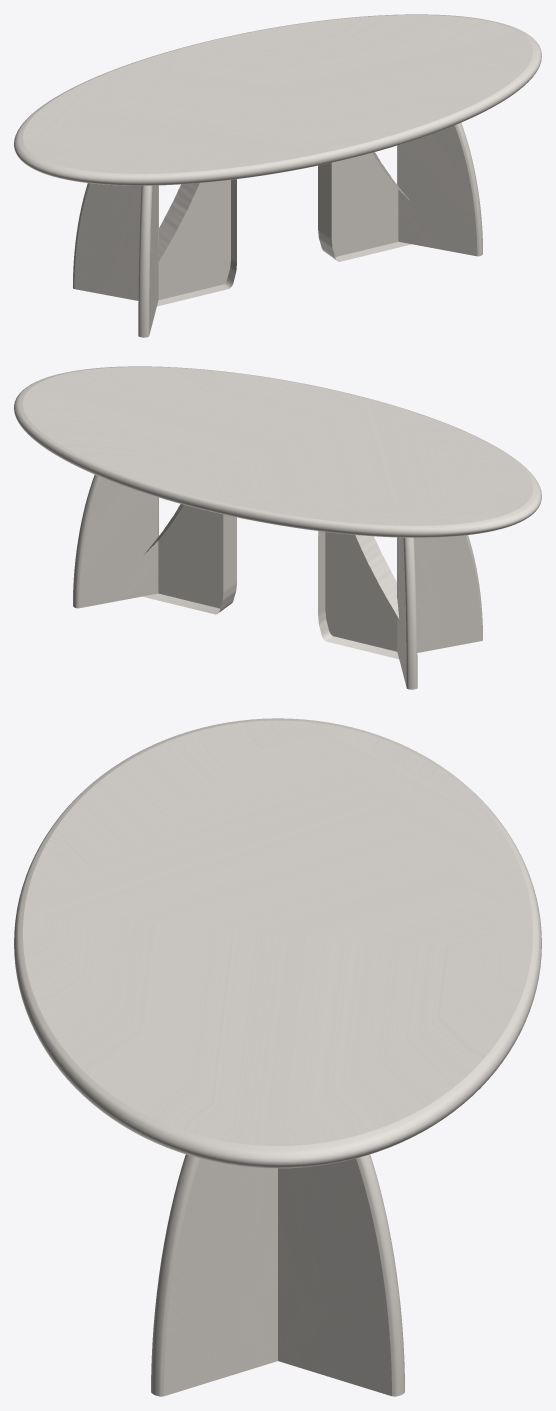
The model's file is pearlwhite_ellips_round_plane.glb.
The picture shows the model from 3 angles, top to bottom: view 1: azimuth 30°, elevation 25°; view 2: azimuth 150°, elevation 25°; view 3: azimuth 270°, elevation 25°; orthographic projection. The views are drawn at different scales.
Visible parts, largest first — view 1: round_ellips, plane_singleright2, plane_single1, plane_single2, plane_singleleft1, plane_singleright1; view 2: round_ellips, plane_singleleft2, plane_single1, plane_single2, plane_singleright1, plane_singleleft1; view 3: round_ellips, plane_singleleft2, plane_singleright2.
Boxes of the visible parts, x1=… form: round_ellips: x1=14, y1=14, x2=541, y2=185; plane_singleright2: x1=397, y1=123, x2=482, y2=256; plane_single1: x1=157, y1=179, x2=236, y2=306; plane_single2: x1=318, y1=152, x2=411, y2=261; plane_singleleft1: x1=73, y1=183, x2=158, y2=300; plane_singleright1: x1=138, y1=185, x2=158, y2=337; round_ellips: x1=14, y1=366, x2=541, y2=537; plane_singleleft2: x1=73, y1=475, x2=158, y2=608; plane_single1: x1=318, y1=531, x2=399, y2=659; plane_single2: x1=143, y1=504, x2=236, y2=614; plane_singleright1: x1=397, y1=535, x2=482, y2=652; plane_singleleft1: x1=397, y1=537, x2=417, y2=689; round_ellips: x1=14, y1=718, x2=541, y2=1168; plane_singleleft2: x1=278, y1=1154, x2=404, y2=1396; plane_singleright2: x1=151, y1=1154, x2=277, y2=1396.
Bounding box in the file's own units: 7.5 × 2.49 × 3.8.
1 material, 1 textured.
